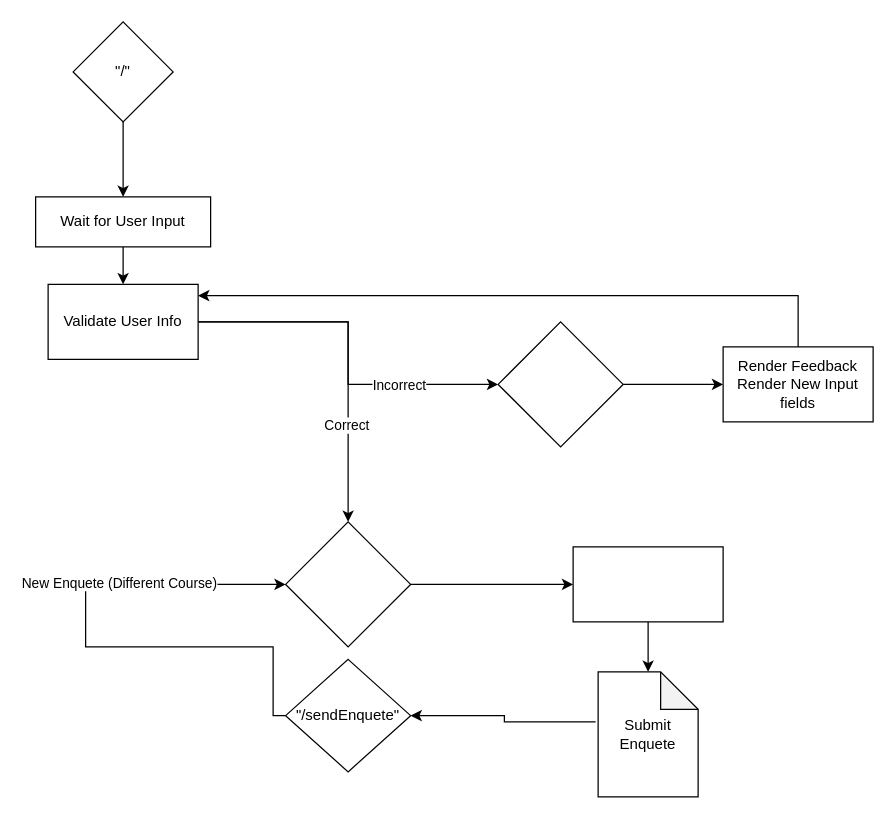
Some shapes in this 895 by 819 pixel diagram are drawn without their labels. Here are the shapes that lost their labels. From the top down, the centre of each, then its label:
(560,384): "/incorrectUser"
(347,584): "/startEnquete"
(647,584): Render Enquete Input Fields
